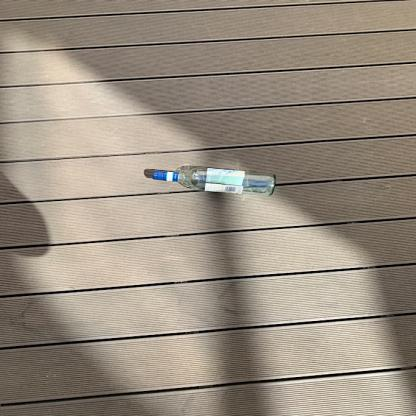trash: (152, 162, 275, 202)
